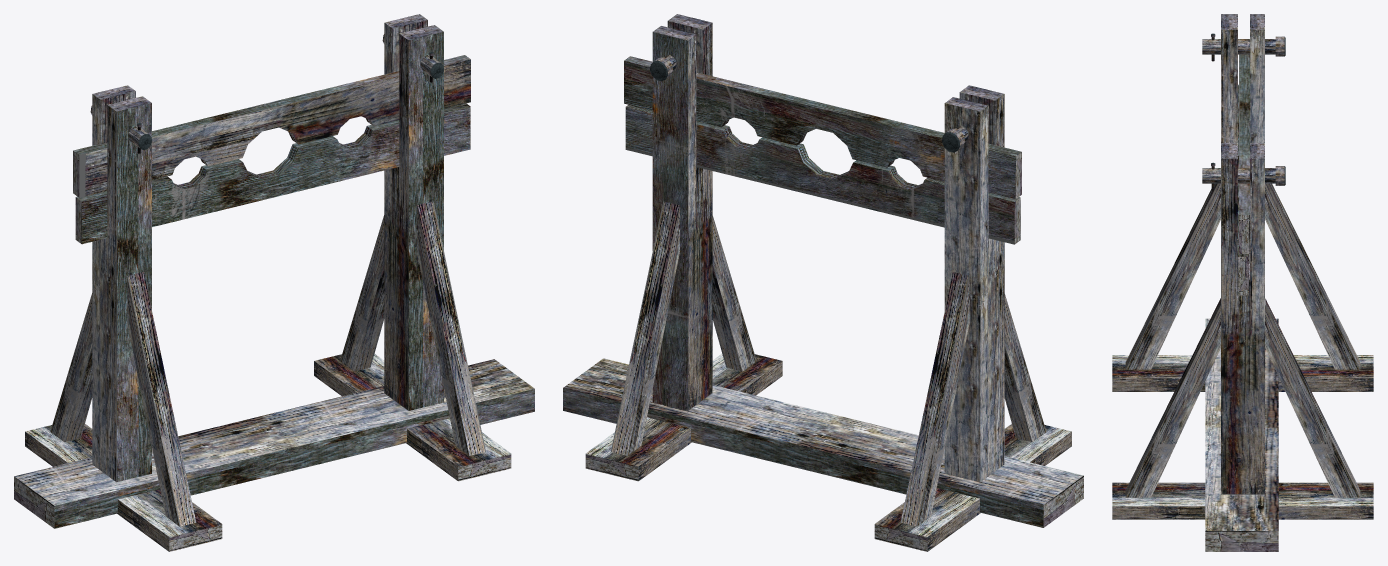
The model's file is Pillory.fbx.
The picture shows the model from 3 angles, left to right: view 1: azimuth 30°, elevation 25°; view 2: azimuth 150°, elevation 25°; view 3: azimuth 270°, elevation 25°; orthographic projection. The views are drawn at different scales.
Parts seen in each view (by area): view 1: Pillory:Mesh; view 2: Pillory:Mesh; view 3: Pillory:Mesh.
Boxes of the visible parts, x1,y1,x2,y2 form: Pillory:Mesh: [14, 14, 534, 551]; Pillory:Mesh: [563, 14, 1083, 551]; Pillory:Mesh: [1112, 14, 1373, 551].
Size of the model in its own units: 2.28 by 1.79 by 1.18.
